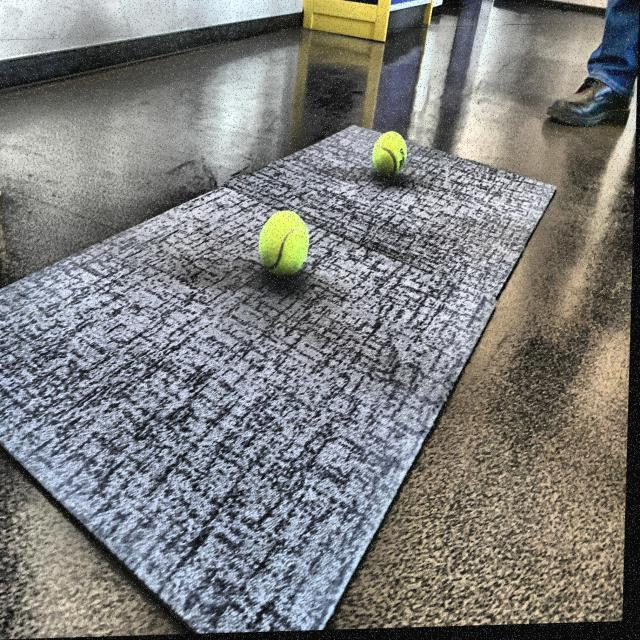tennis-ball: (256, 205, 316, 288), (370, 131, 413, 187)
